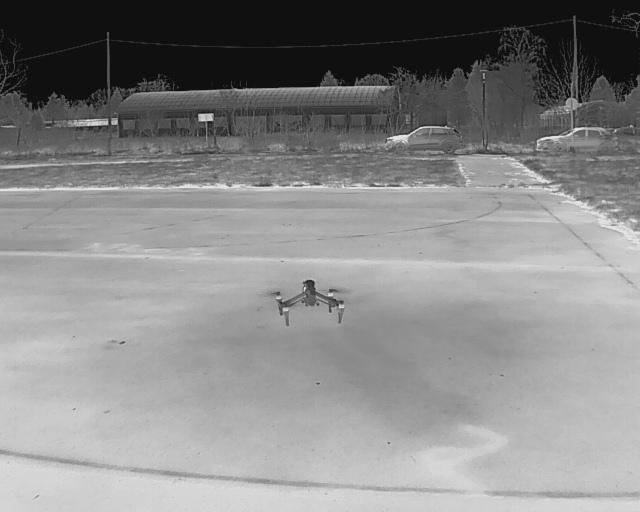drone: (257, 262, 366, 341)
